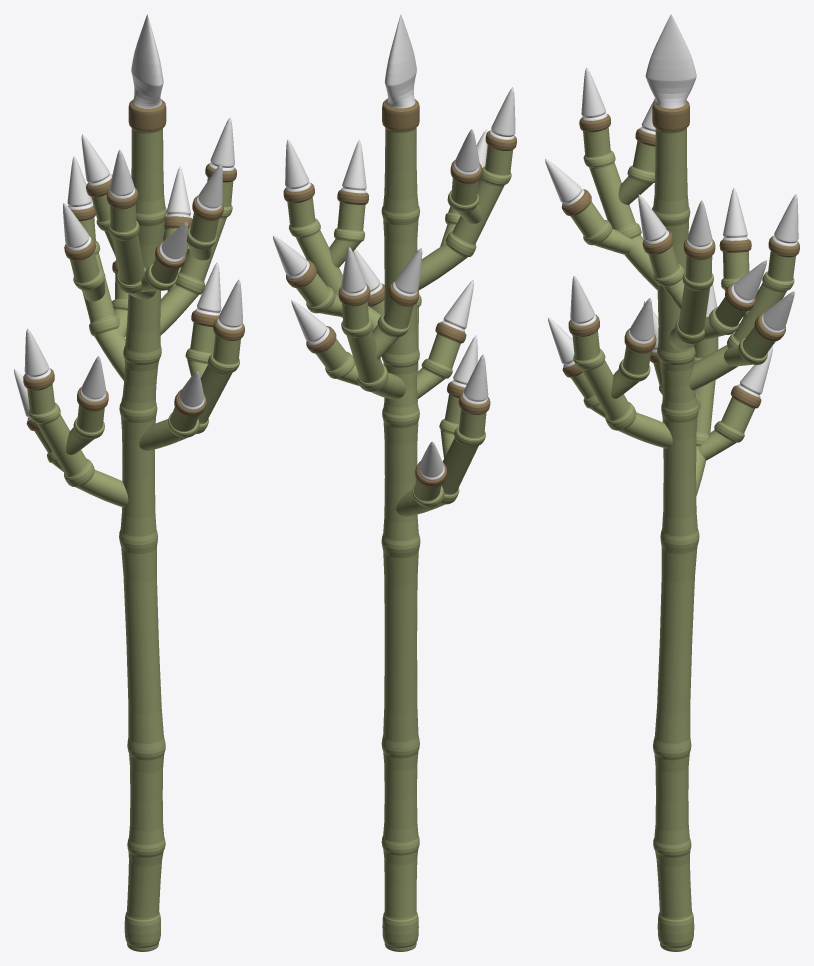
File: Nangseon.fbx
3 renders of one model, left to right at view 1: azimuth 30°, elevation 25°; view 2: azimuth 150°, elevation 25°; view 3: azimuth 270°, elevation 25°, orthographic.
Parts seen in each view (by area): view 1: Primary_Pole.001, Branch1.002, Branch1.005, Branch1.001, Branch1.003, Branch1.004; view 2: Primary_Pole.001, Branch1.004, Branch1.003, Branch1.001, Branch1.002, Branch1.005; view 3: Primary_Pole.001, Branch1.001, Branch1.005, Branch1.004, Branch1.003, Branch1.002.
Part boxes in pixels (left/top/right/bottom): Primary_Pole.001: left=119, top=14, right=166, bottom=951; Branch1.002: left=14, top=328, right=128, bottom=507; Branch1.005: left=139, top=262, right=244, bottom=450; Branch1.001: left=81, top=134, right=187, bottom=299; Branch1.003: left=160, top=117, right=236, bottom=335; Branch1.004: left=63, top=156, right=128, bottom=380; Primary_Pole.001: left=381, top=14, right=420, bottom=951; Branch1.004: left=291, top=247, right=422, bottom=399; Branch1.003: left=273, top=139, right=381, bottom=331; Branch1.001: left=418, top=87, right=516, bottom=290; Branch1.002: left=396, top=335, right=490, bottom=516; Branch1.005: left=353, top=249, right=473, bottom=401; Primary_Pole.001: left=645, top=14, right=699, bottom=951; Branch1.001: left=545, top=67, right=657, bottom=289; Branch1.005: left=548, top=275, right=672, bottom=448; Branch1.004: left=689, top=187, right=799, bottom=390; Branch1.003: left=638, top=194, right=766, bottom=349; Branch1.002: left=643, top=284, right=772, bottom=495.
Size of the model in its own units: 1341 by 5796 by 1435.
